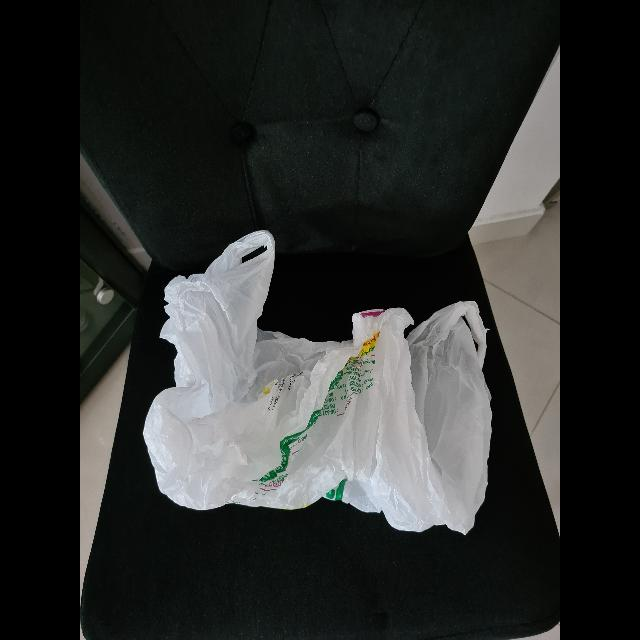plastic_bag: (120, 224, 510, 548)
